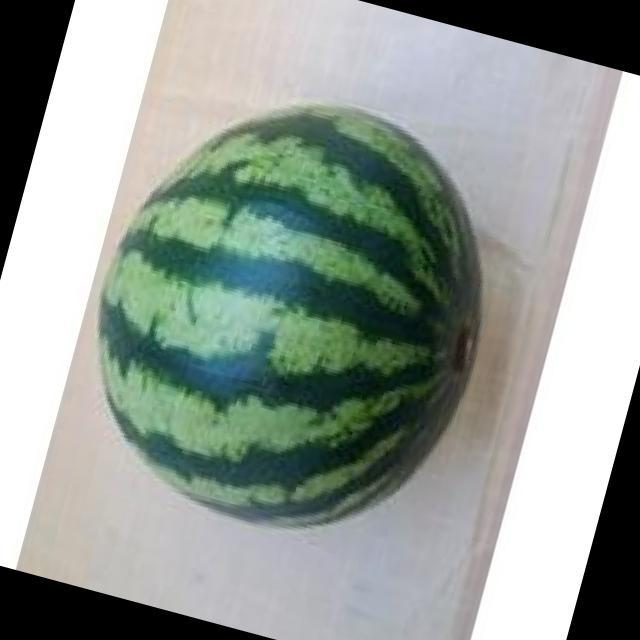watermelon: (99, 107, 481, 525)
